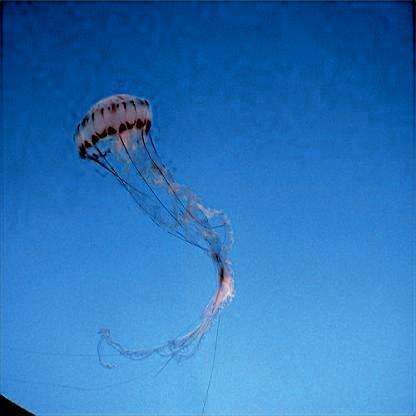Mosaic: (69, 93, 233, 361)
